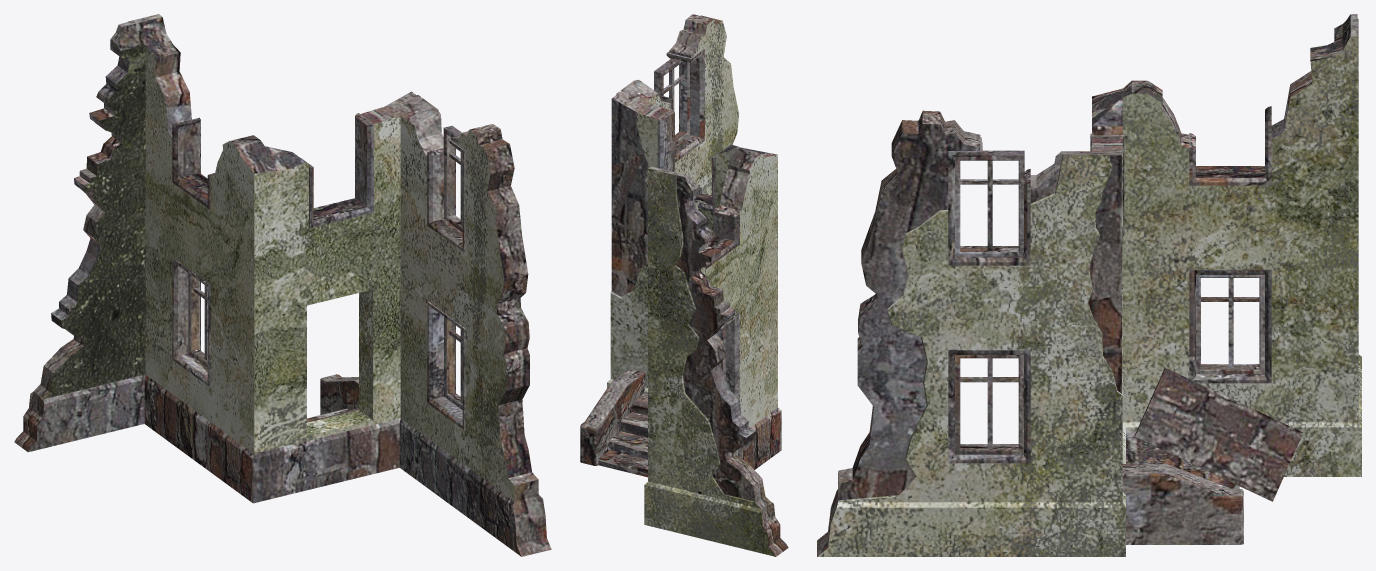
File: ruined-building.fbx
3 renders of one model, left to right at view 1: azimuth 30°, elevation 25°; view 2: azimuth 150°, elevation 25°; view 3: azimuth 270°, elevation 25°, orthographic. The views are drawn at different scales.
Visible parts, largest first — view 1: Object_Tex_1.jpg, Object_Tex_2.jpg, Object_Tex_3.jpg; view 2: Object_Tex_1.jpg, Object_Tex_2.jpg, Object_Tex_3.jpg; view 3: Object_Tex_1.jpg, Object_Tex_3.jpg, Object_Tex_2.jpg.
Boxes of the visible parts, <box> form: Object_Tex_1.jpg: <box>45,45,514,501</box>; Object_Tex_2.jpg: <box>14,14,551,556</box>; Object_Tex_3.jpg: <box>172,113,465,429</box>; Object_Tex_1.jpg: <box>607,19,777,556</box>; Object_Tex_2.jpg: <box>611,14,788,556</box>; Object_Tex_3.jpg: <box>580,49,739,477</box>; Object_Tex_1.jpg: <box>817,36,1361,556</box>; Object_Tex_3.jpg: <box>948,106,1303,544</box>; Object_Tex_2.jpg: <box>817,14,1358,556</box>.
Size of the model in its own units: 0.9025 by 1.18 by 1.3.
